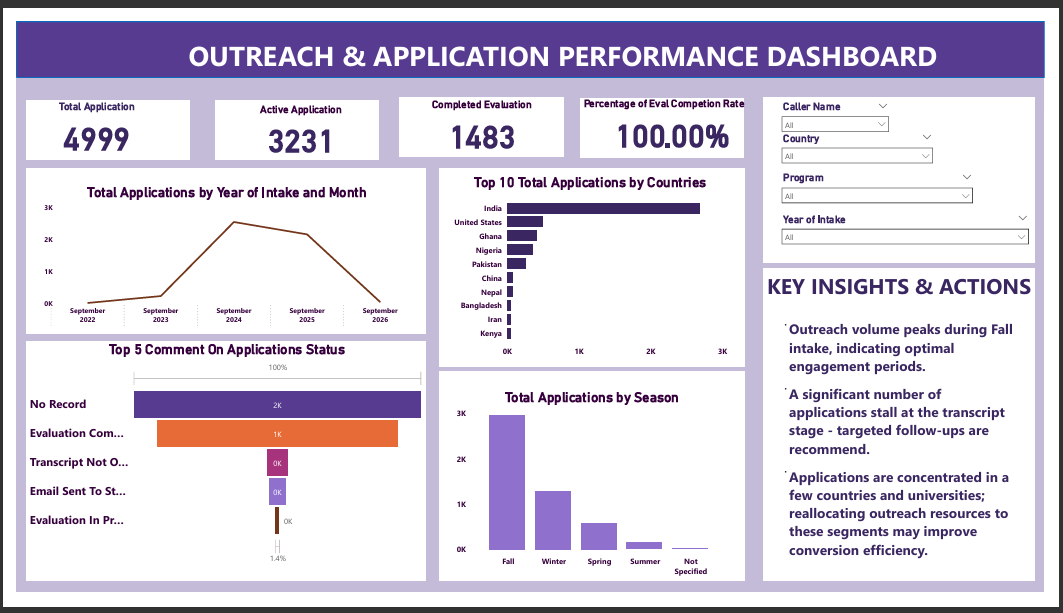

What the dashboard file says about the page in this screenshot:
{"tool":"powerbi","page":{"name":"Page 1","canvas":[1800,1000],"ordinal":0},"visuals":[{"type":"shape","box":[0,0,1800,97.5],"z":0},{"type":"shape","box":[1307.5,132.5,475,290],"z":1000},{"type":"shape","box":[17.5,257.5,700,290],"z":2000},{"type":"shape","box":[17.5,560,700,420],"z":3000},{"type":"shape","box":[740,257.5,535,347.5],"z":4000},{"type":"shape","box":[740,612.5,535,367.5],"z":5000},{"type":"shape","box":[1307.5,432.5,475,547.5],"z":6000},{"type":"shape","box":[670,132.5,287.5,105],"z":7000},{"type":"shape","box":[347.5,137.5,287.5,105],"z":8000},{"type":"shape","box":[17.5,137.5,287.5,105],"z":9000},{"type":"clusteredBarChart","title":"Top 10 Total Applications by Countries","fields":{"Y":["cleaaned.Total Applications"],"Category":["cleaaned.Country"]},"box":[760,267.5,490,330],"z":10000},{"type":"funnel","title":"Top 5 Comment On Applications Status  ","fields":{"Y":["cleaaned.Total Applications"],"Category":["cleaaned.Comments"]},"box":[17.5,560,700,397.5],"z":11000},{"type":"slicer","fields":{"Values":["cleaaned.Country"]},"box":[1330,187.5,285,70],"z":12000},{"type":"slicer","fields":{"Values":["cleaaned.Program"]},"box":[1330,257.5,355,70],"z":13000},{"type":"slicer","fields":{"Values":["cleaaned.Year of  Intake"]},"box":[1330,330,452.5,92.5],"z":14000},{"type":"columnChart","fields":{"Category":["cleaaned.Season"],"Y":["cleaaned.Total Applications"]},"box":[765,645,485,335],"z":15000},{"type":"lineChart","fields":{"Y":["cleaaned.Total Applications"],"Category":["cleaaned.Year of  Intake","cleaaned.Recieved_At.Variation.Date Hierarchy.Month"]},"box":[42.5,285,650,260],"z":16000},{"type":"card","title":"Active Application","fields":{"Values":["cleaaned.Active Applications"]},"box":[347.5,142.5,300,100],"z":17000},{"type":"card","title":"Total Application","fields":{"Values":["cleaaned.Total Applications"]},"box":[0,137.5,280,100],"z":18000},{"type":"card","title":"Completed Evaluation","fields":{"Values":["cleaaned.Completed Evaluations"]},"box":[665,135,300,100],"z":19000},{"type":"textbox","box":[112.5,20,1687.5,85],"z":20000},{"type":"shape","box":[987.5,135,287.5,105],"z":21000},{"type":"card","title":"Percentage of Eval Competion Rate","fields":{"Values":["cleaaned.Evaluation Completion Rate"]},"box":[987.5,132.5,320,102.5],"z":22000},{"type":"slicer","fields":{"Values":["cleaaned.Caller_Name"]},"box":[1330,132.5,207.5,70],"z":23000},{"type":"textbox","box":[1330,500,430,480],"z":24000},{"type":"textbox","box":[1307.5,432.5,475,67.5],"z":25000}]}

Visuals, with their boxes on the page's 1800x1000 design canvas (x1, y1, x2, y2). These are canvas units, not pixel positions in the 1063x613 screenshot, which may show the page scaled, cropped or inside an application window:
shape: bbox=(0, 0, 1800, 98)
shape: bbox=(1308, 132, 1782, 422)
shape: bbox=(18, 258, 718, 548)
shape: bbox=(18, 560, 718, 980)
shape: bbox=(740, 258, 1275, 605)
shape: bbox=(740, 612, 1275, 980)
shape: bbox=(1308, 432, 1782, 980)
shape: bbox=(670, 132, 958, 238)
shape: bbox=(348, 138, 635, 242)
shape: bbox=(18, 138, 305, 242)
"Top 10 Total Applications by Countries" clusteredBarChart: bbox=(760, 268, 1250, 598)
"Top 5 Comment On Applications Status  " funnel: bbox=(18, 560, 718, 958)
slicer - cleaaned.Country: bbox=(1330, 188, 1615, 258)
slicer - cleaaned.Program: bbox=(1330, 258, 1685, 328)
slicer - cleaaned.Year of  Intake: bbox=(1330, 330, 1782, 422)
columnChart - cleaaned.Season x cleaaned.Total Applications: bbox=(765, 645, 1250, 980)
lineChart - cleaaned.Total Applications x cleaaned.Year of  Intake: bbox=(42, 285, 692, 545)
"Active Application" card: bbox=(348, 142, 648, 242)
"Total Application" card: bbox=(0, 138, 280, 238)
"Completed Evaluation" card: bbox=(665, 135, 965, 235)
textbox: bbox=(112, 20, 1800, 105)
shape: bbox=(988, 135, 1275, 240)
"Percentage of Eval Competion Rate" card: bbox=(988, 132, 1308, 235)
slicer - cleaaned.Caller_Name: bbox=(1330, 132, 1538, 202)
textbox: bbox=(1330, 500, 1760, 980)
textbox: bbox=(1308, 432, 1782, 500)
